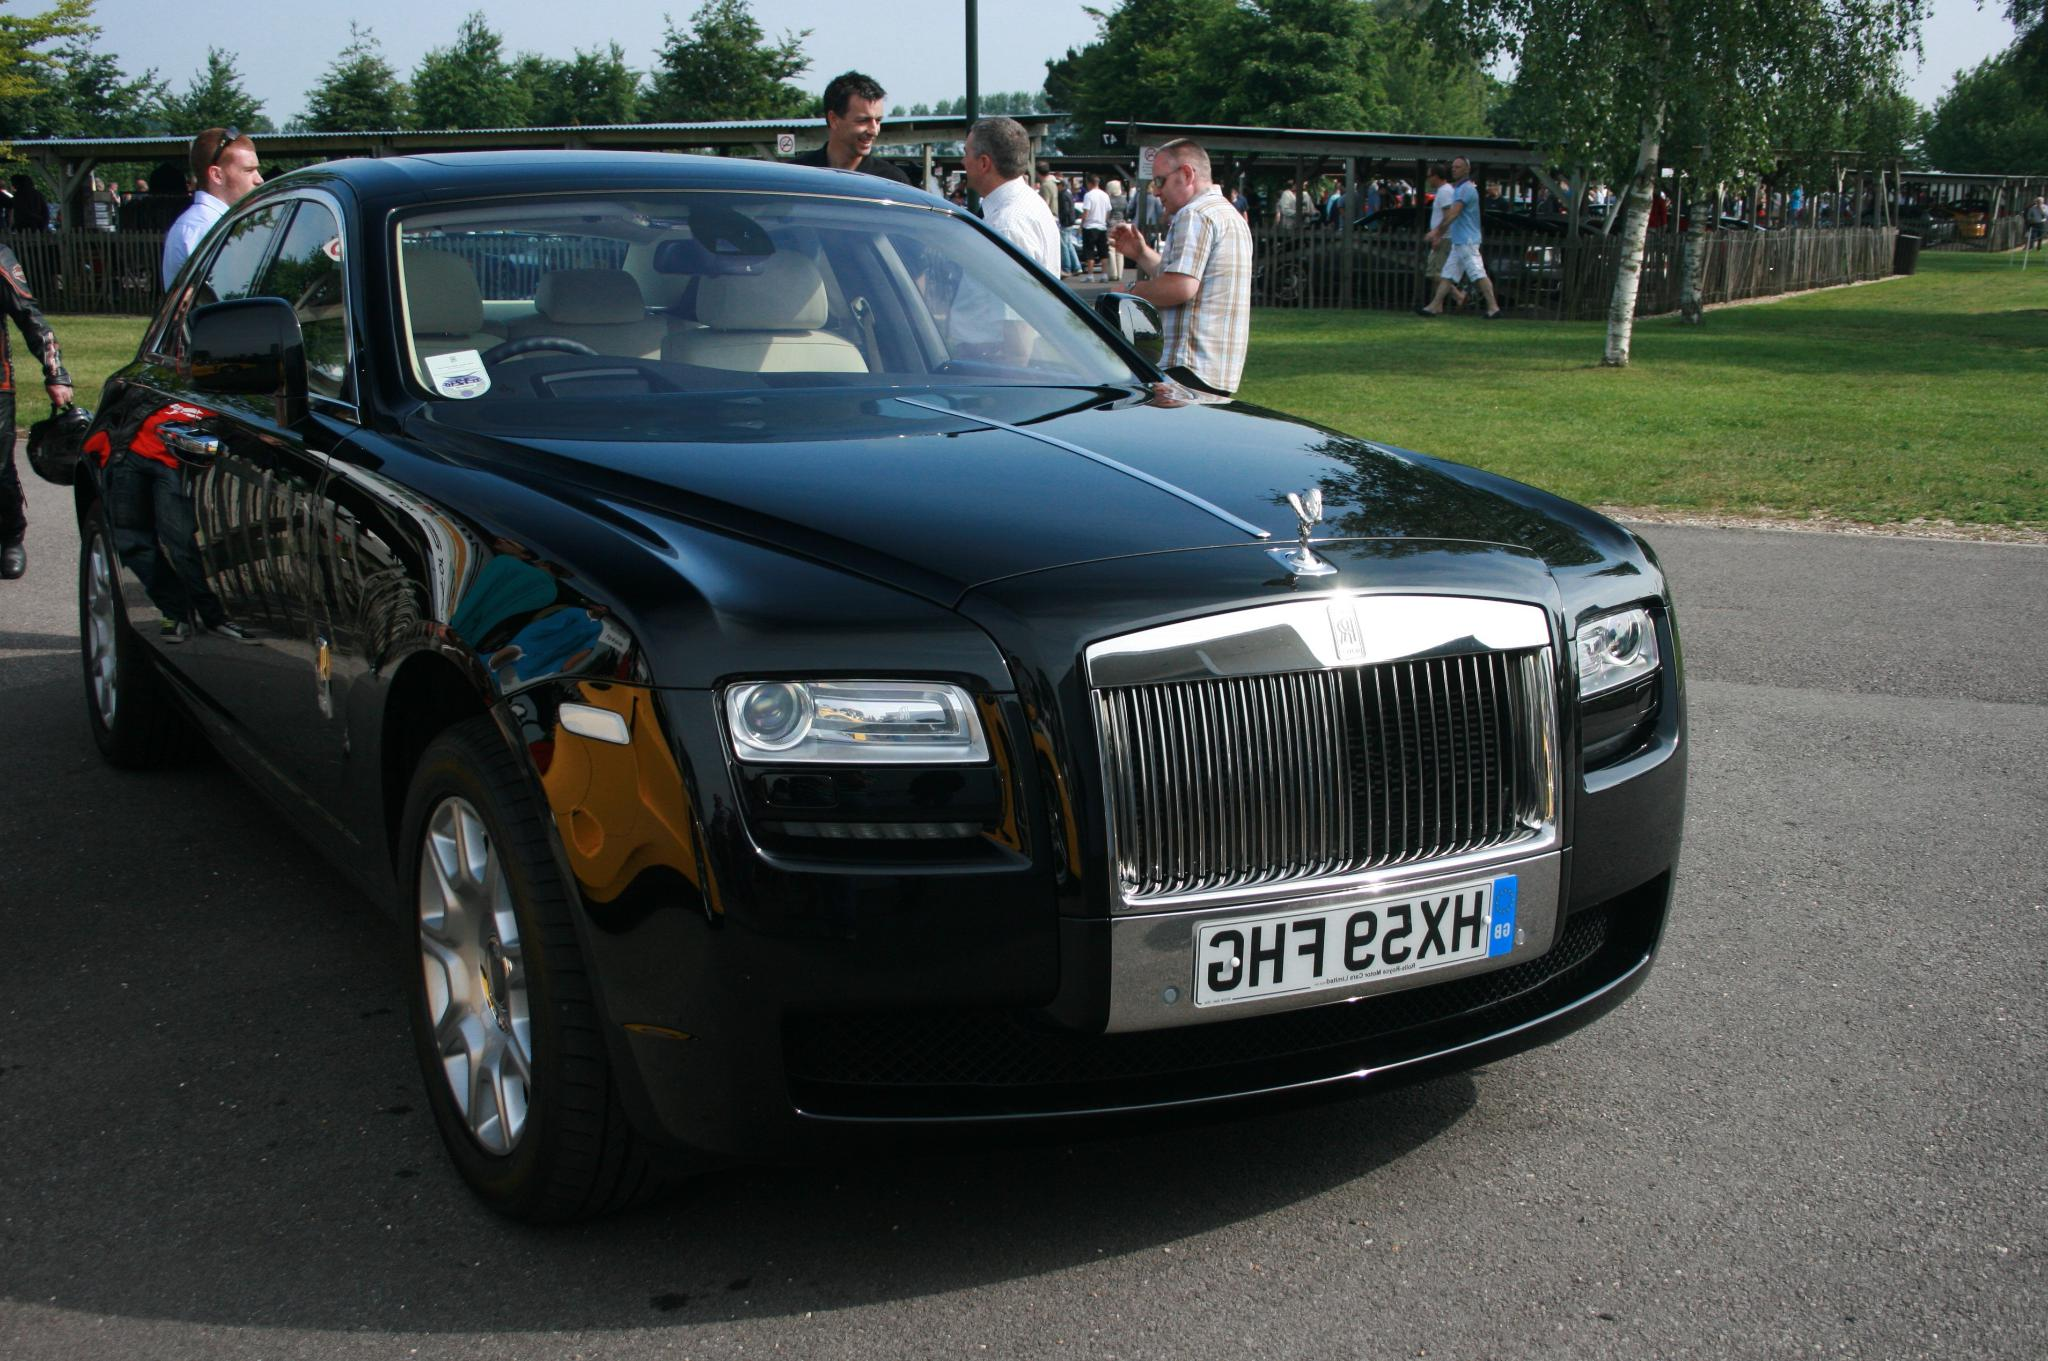Car: (2, 87, 1758, 1252)
